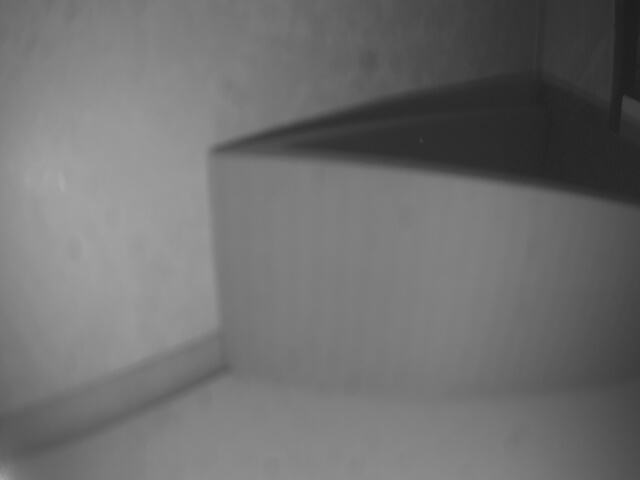Point: (204, 146, 640, 400)
